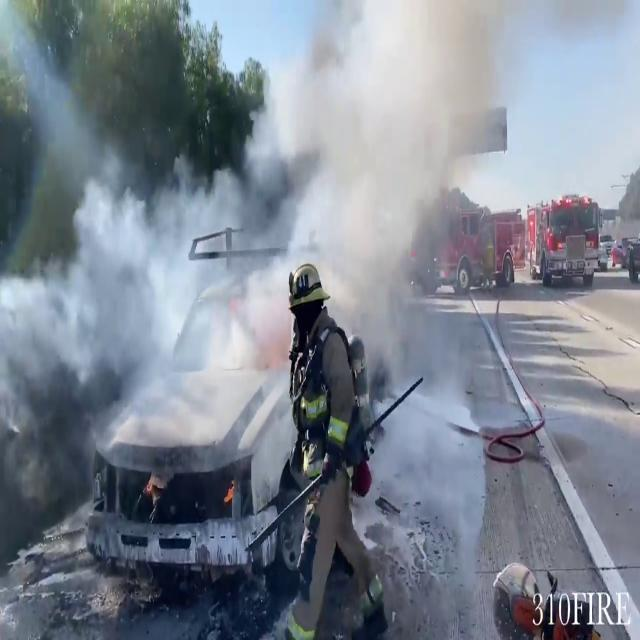Smoke: (0, 3, 510, 497)
